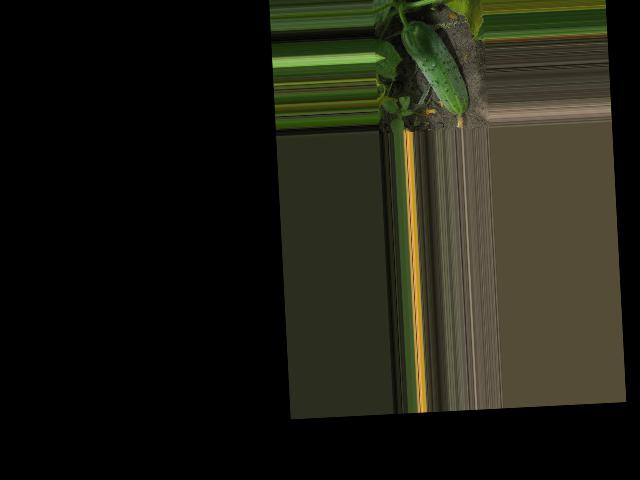cucumber: (400, 18, 470, 131)
